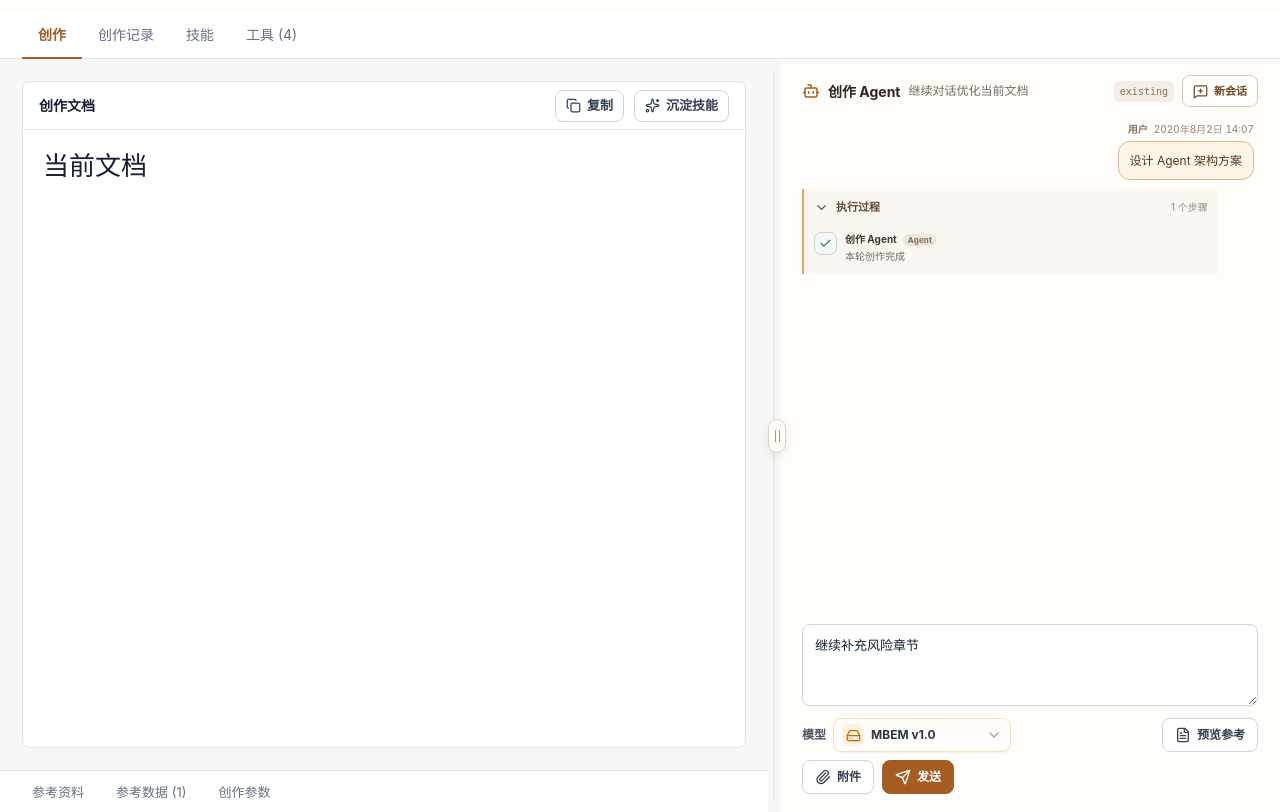
Test: 创作新会话 › 从页面开启新会话，并保留创作偏好
The width and height of the screenshot is (1280, 812).
What coordinates should you click on to do the following:
click the button with aria-label "开启新会话"
I would click on:
 (1220, 91)
Its box is [1182,75,1258,107].
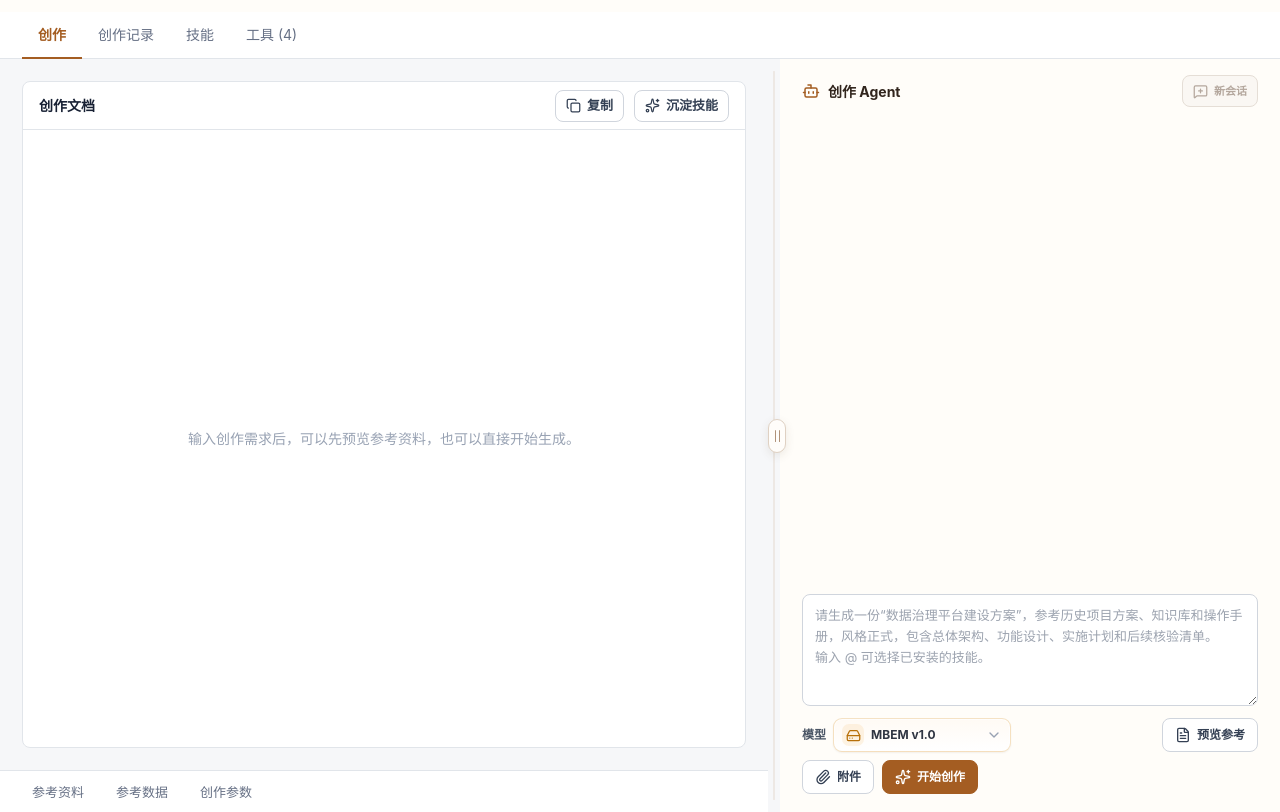
expect the button with aria-label "开启新会话" is disabled: met, box [1182,75,1258,107]
expect the text "当前文档" is gone: met
expect the field labelled "用户消息" is gone: met
